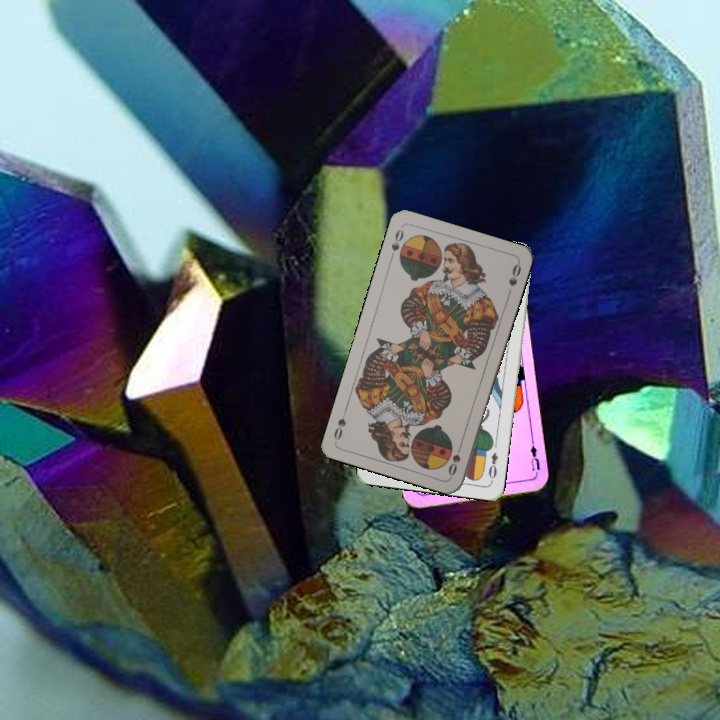EO: (484, 448, 501, 484)
EU: (526, 438, 543, 479)
SO: (444, 439, 465, 479), (386, 225, 406, 263)
